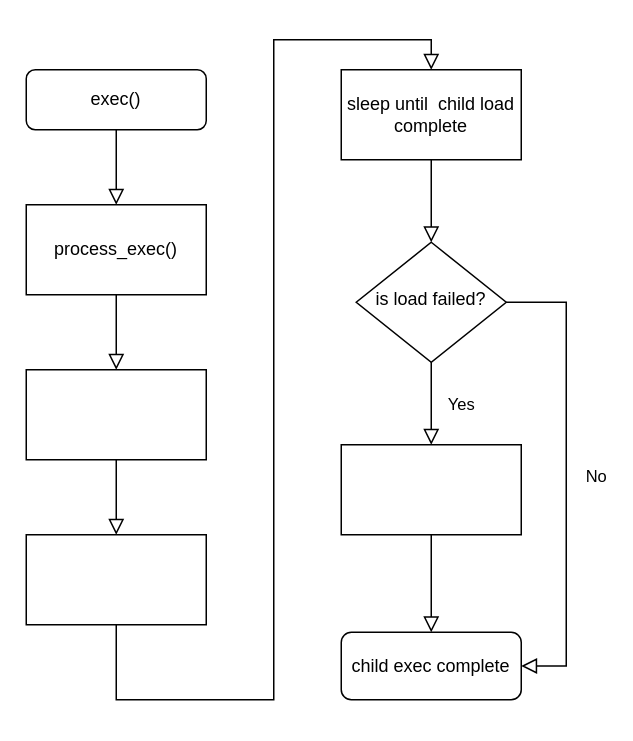
Some shapes in this 633 by 741 pixel diagram are drawn without their labels. Here are the shapes that lost their labels. From the top down, the centre of each, then its label:
At [115,414]: "parse file name".
At [430,489]: "reap load failed child by process_wait()".
At [115,579]: "thread_create with parsed file name".
